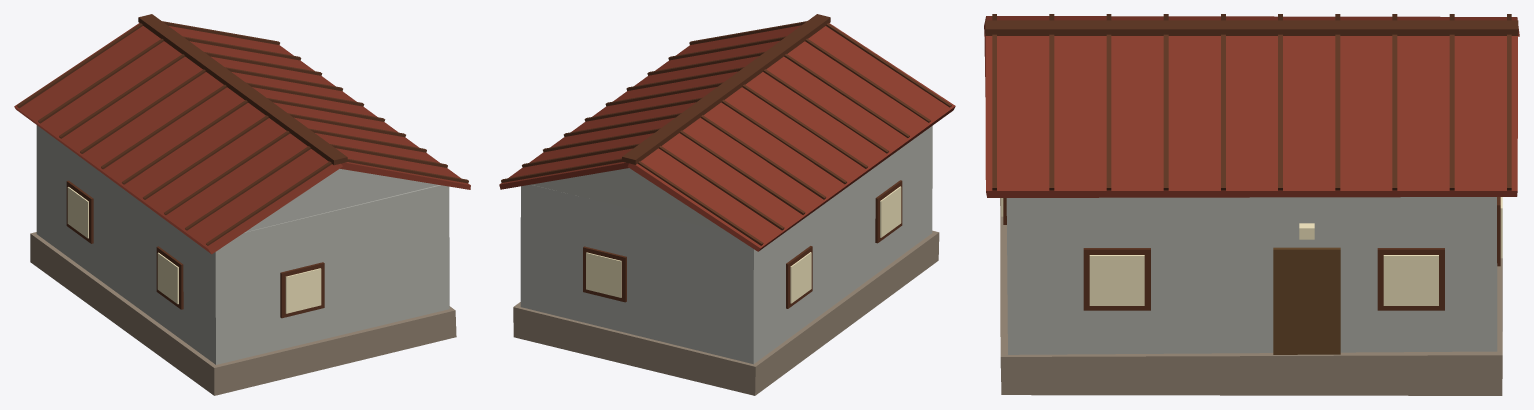
The model's file is bowl_house_red.glb.
The picture shows the model from 3 angles, left to right: view 1: azimuth 30°, elevation 25°; view 2: azimuth 150°, elevation 25°; view 3: azimuth 270°, elevation 25°; orthographic projection. The views are drawn at different scales.
Visible parts, largest first — view 1: bowl_house_red; view 2: bowl_house_red; view 3: bowl_house_red.
Part boxes in pixels (left/top/right/bottom): bowl_house_red: left=14, top=14, right=470, bottom=395; bowl_house_red: left=499, top=14, right=955, bottom=395; bowl_house_red: left=984, top=14, right=1519, bottom=395.
Size of the model in its own units: 6.76 by 5.23 by 8.74.
